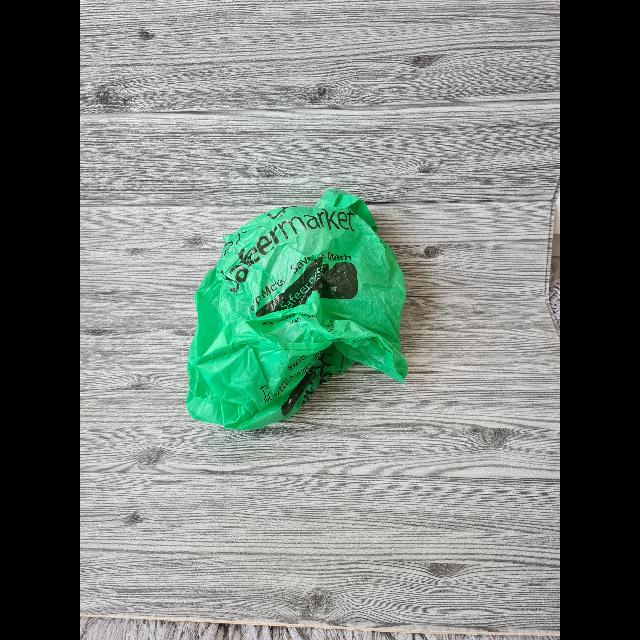plastic_bag: (180, 190, 404, 440)
